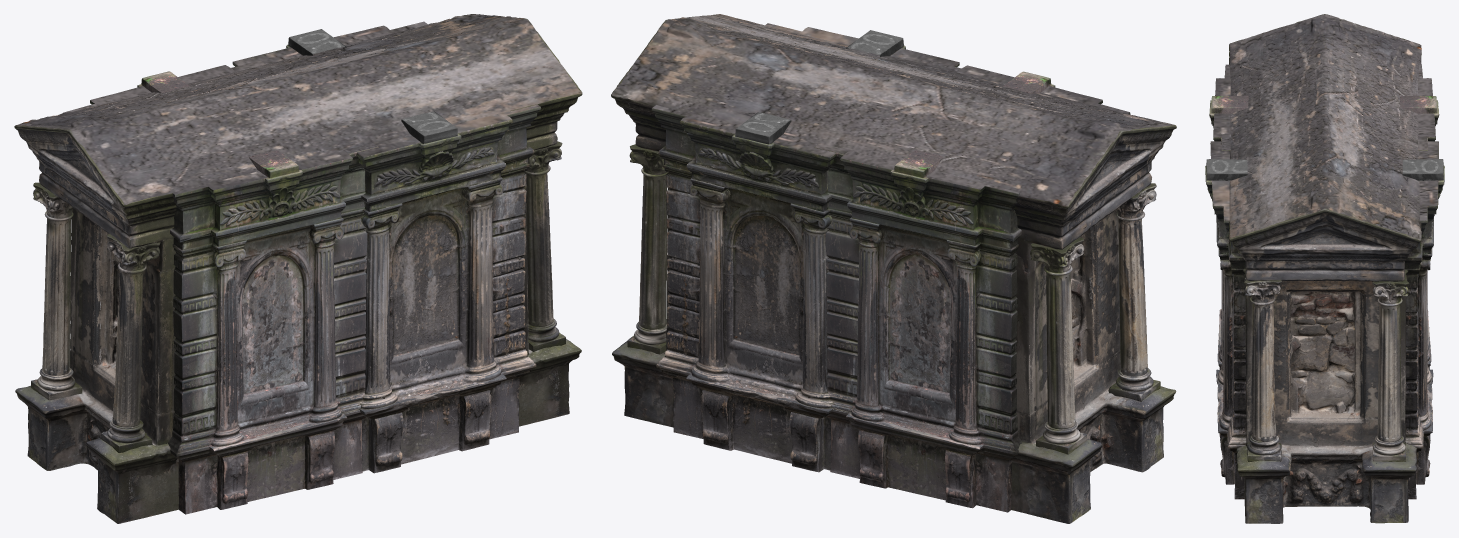
File: sm_Grave_03_04.fbx
3 views of the same model, side by side, from view 1: azimuth 30°, elevation 25°; view 2: azimuth 150°, elevation 25°; view 3: azimuth 270°, elevation 25° (orthographic). The views are drawn at different scales.
Parts seen in each view (by area): view 1: sm_Grave_03_04_LOD0; view 2: sm_Grave_03_04_LOD0; view 3: sm_Grave_03_04_LOD0.
Boxes of the visible parts, left/top/right/bottom form: sm_Grave_03_04_LOD0: left=14, top=14, right=582, bottom=523; sm_Grave_03_04_LOD0: left=611, top=14, right=1176, bottom=523; sm_Grave_03_04_LOD0: left=1205, top=14, right=1444, bottom=523.
Size of the model in its own units: 455 by 230 by 337.
